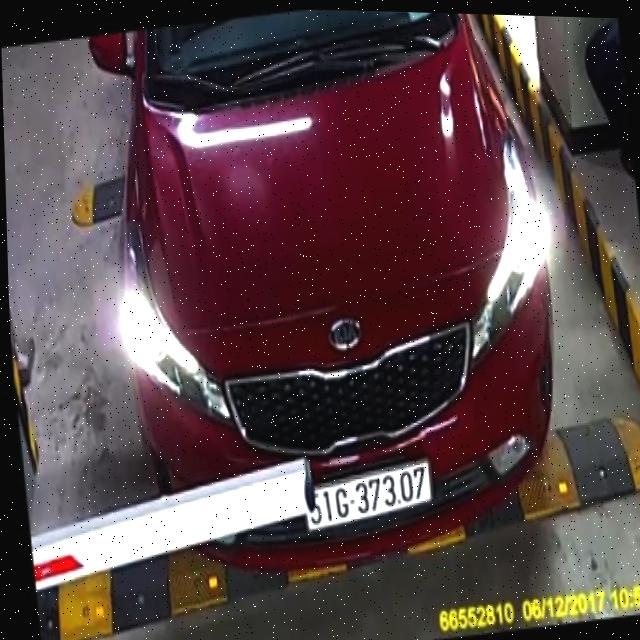car: (83, 2, 571, 587)
plate: (297, 454, 438, 536)
